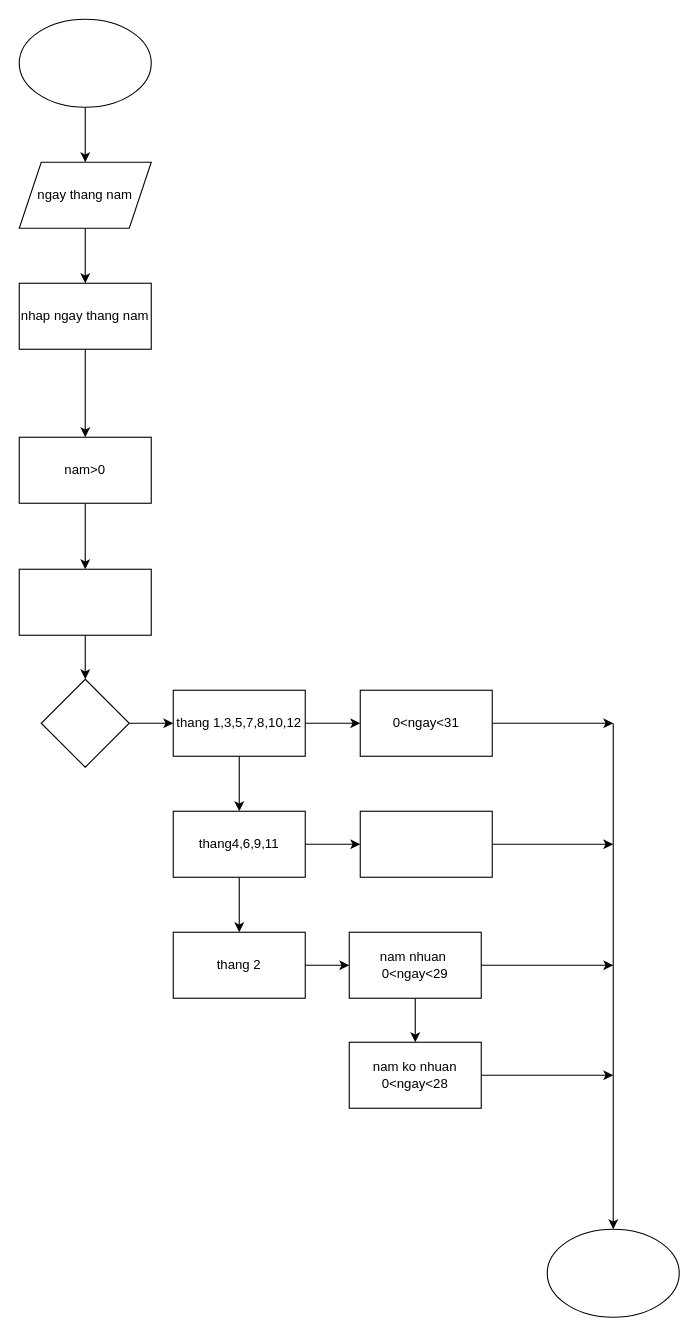
Some shapes in this 699 by 1337 pixel diagram are drawn without their labels. Each missing label, with the centre of its shape:
0<ngay<30: the point at 425,843
0<thang>12: the point at 84,601
begin: the point at 84,62
ngay: the point at 84,722
